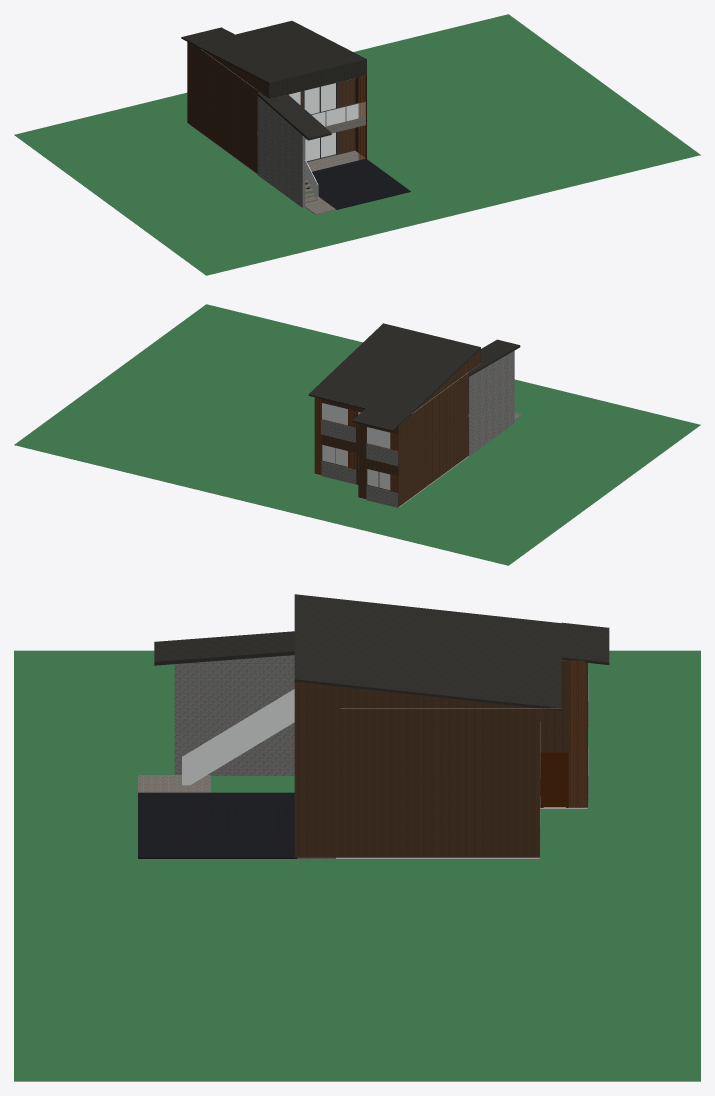
The model's file is Vivienda.fbx.
The picture shows the model from 3 angles, top to bottom: view 1: azimuth 30°, elevation 25°; view 2: azimuth 150°, elevation 25°; view 3: azimuth 270°, elevation 25°; orthographic projection. The views are drawn at different scales.
Parts seen in each view (by area): view 1: Suelo Zacate [693790], Cubierta básica Techo Lamina de junta alzada [719020].001, Muro básico Genérico - 15cm concreto expuesto [678379].001, Muro básico Bloques de hormigon 15 cm 2 [718694].001, Suelo Losa de concreto [694751].001, Muro básico Bloques de hormigon 15 cm 2 [718428].001, Muro básico Precintas [721578].001, Suelo Genérico 150 mm [683825].001, Muro básico Moldura de madera [703704].001, Muro básico Bloques de hormigon 15 cm 2 [165257].001, Muro básico Moldura de madera [705776].001, Suelo Losa de concreto [694685].001 (+2 smaller); view 2: Suelo Zacate [693790], Cubierta básica Techo Lamina de junta alzada [719020].001, Muro básico Genérico - 15cm concreto expuesto [678379].001, Muro básico Bloques de hormigon 15 cm 2 [718694].001, Muro básico Bloques de hormigon 15 cm 2 [718428].001, Muro básico Bloques de hormigon 15 cm 2 [693623].001, Muro básico Bloques de hormigon 15 cm 2 [693678].001, Cubierta básica Techo Lamina de junta alzada [722575].001, Suelo Genérico 150 mm [683825].001, Muro básico Bloques de hormigon 15 cm 2 [679792].001, Muro básico Bloques de hormigon 15 cm 2 [680313].001, Muro básico Pared Exterior DE Piedra Patio [740457] (+5 smaller); view 3: Suelo Zacate [693790], Cubierta básica Techo Lamina de junta alzada [719020].001, Muro básico Bloques de hormigon 15 cm 2 [679344].001, Muro básico Bloques de hormigon 15 cm 2 [160888].001, Muro básico Genérico - 15cm concreto expuesto [678379].001, Suelo Losa de concreto [694751].001, Muro básico Moldura de madera [703704].001, Suelo Genérico 150 mm [683825].001, Muro básico Moldura de madera [737445], Muro básico Bloques de hormigon 15 cm 2 [723328].001, Muro básico Bloques de hormigon 15 cm 2 [169541].001, Cubierta básica Techo Lamina de junta alzada [722575].001 (+5 smaller).
Boxes of the visible parts, left/top/right/bottom form: Suelo Zacate [693790]: left=14, top=14, right=700, bottom=275; Cubierta básica Techo Lamina de junta alzada [719020].001: left=194, top=21, right=366, bottom=84; Muro básico Genérico - 15cm concreto expuesto [678379].001: left=257, top=96, right=305, bottom=207; Muro básico Bloques de hormigon 15 cm 2 [718694].001: left=188, top=42, right=256, bottom=131; Suelo Losa de concreto [694751].001: left=305, top=158, right=410, bottom=209; Muro básico Bloques de hormigon 15 cm 2 [718428].001: left=188, top=82, right=256, bottom=172; Muro básico Precintas [721578].001: left=269, top=60, right=366, bottom=98; Suelo Genérico 150 mm [683825].001: left=257, top=93, right=331, bottom=140; Muro básico Moldura de madera [703704].001: left=355, top=75, right=366, bottom=158; Muro básico Bloques de hormigon 15 cm 2 [165257].001: left=256, top=78, right=355, bottom=131; Muro básico Moldura de madera [705776].001: left=358, top=76, right=365, bottom=159; Suelo Losa de concreto [694685].001: left=307, top=150, right=365, bottom=171; Suelo Zacate [693790]: left=14, top=304, right=700, bottom=565; Cubierta básica Techo Lamina de junta alzada [719020].001: left=308, top=323, right=480, bottom=419; Muro básico Genérico - 15cm concreto expuesto [678379].001: left=468, top=350, right=514, bottom=456; Muro básico Bloques de hormigon 15 cm 2 [718694].001: left=399, top=361, right=467, bottom=463; Muro básico Bloques de hormigon 15 cm 2 [718428].001: left=399, top=414, right=468, bottom=505; Muro básico Bloques de hormigon 15 cm 2 [693623].001: left=316, top=432, right=358, bottom=483; Muro básico Bloques de hormigon 15 cm 2 [693678].001: left=360, top=456, right=399, bottom=506; Cubierta básica Techo Lamina de junta alzada [722575].001: left=352, top=408, right=405, bottom=431; Suelo Genérico 150 mm [683825].001: left=469, top=339, right=520, bottom=376; Muro básico Bloques de hormigon 15 cm 2 [679792].001: left=358, top=423, right=399, bottom=465; Muro básico Bloques de hormigon 15 cm 2 [680313].001: left=316, top=398, right=363, bottom=442; Muro básico Pared Exterior DE Piedra Patio [740457]: left=321, top=461, right=356, bottom=484; Suelo Zacate [693790]: left=14, top=650, right=700, bottom=1081; Cubierta básica Techo Lamina de junta alzada [719020].001: left=294, top=594, right=561, bottom=710; Muro básico Bloques de hormigon 15 cm 2 [679344].001: left=340, top=686, right=539, bottom=782; Muro básico Bloques de hormigon 15 cm 2 [160888].001: left=338, top=783, right=539, bottom=857; Muro básico Genérico - 15cm concreto expuesto [678379].001: left=174, top=655, right=294, bottom=775; Suelo Losa de concreto [694751].001: left=138, top=792, right=297, bottom=858; Muro básico Moldura de madera [703704].001: left=294, top=681, right=340, bottom=857; Suelo Genérico 150 mm [683825].001: left=154, top=631, right=294, bottom=665; Muro básico Moldura de madera [737445]: left=570, top=661, right=586, bottom=807; Muro básico Bloques de hormigon 15 cm 2 [723328].001: left=540, top=660, right=583, bottom=735; Muro básico Bloques de hormigon 15 cm 2 [169541].001: left=540, top=733, right=587, bottom=807; Cubierta básica Techo Lamina de junta alzada [722575].001: left=561, top=622, right=609, bottom=664.
Bounding box in the file's own units: 3711 × 737 × 2500.
Materials: 17 (12 with a texture image).
